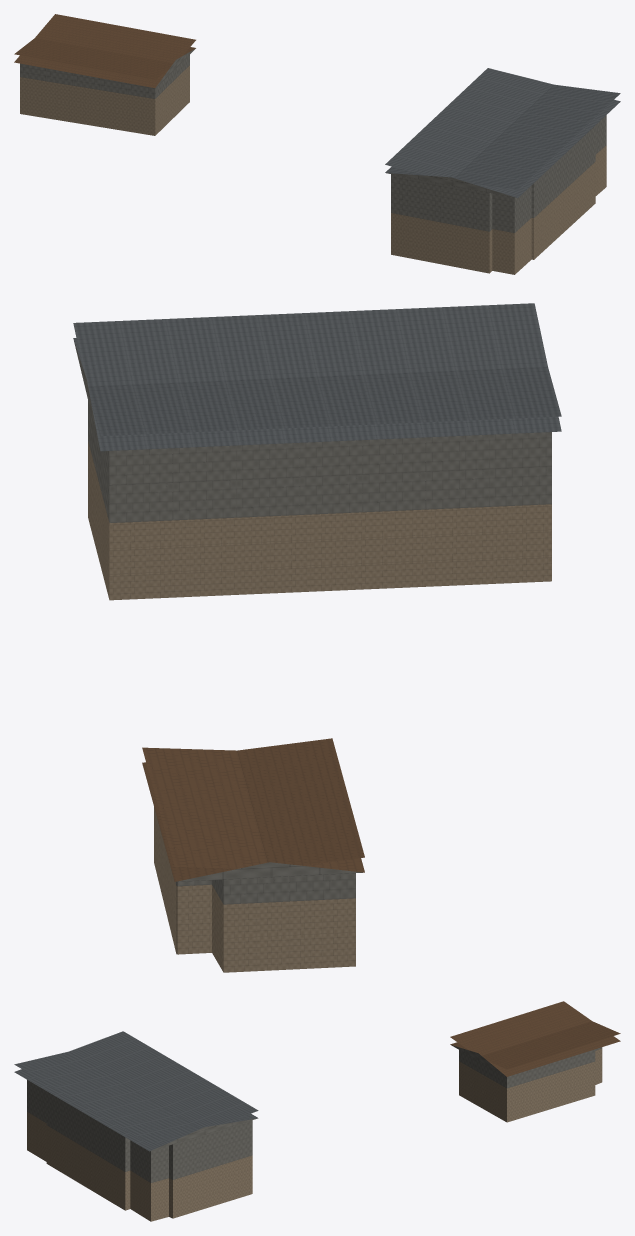
File: bld_c41_47_189.gltf
3 renders of one model, top to bottom at view 1: azimuth 30°, elevation 25°; view 2: azimuth 150°, elevation 25°; view 3: azimuth 270°, elevation 25°, orthographic. The views are drawn at different scales.
Visible parts, largest first — view 1: bld_c41_47_189; view 2: bld_c41_47_189; view 3: bld_c41_47_189.
Boxes of the visible parts, x1,y1,x2,y2 form: bld_c41_47_189: [14, 14, 620, 274]; bld_c41_47_189: [73, 303, 561, 972]; bld_c41_47_189: [14, 1001, 620, 1221].
Size of the model in its own units: 48.81 by 11.3 by 72.66.
Materials: 5 (5 with a texture image).
